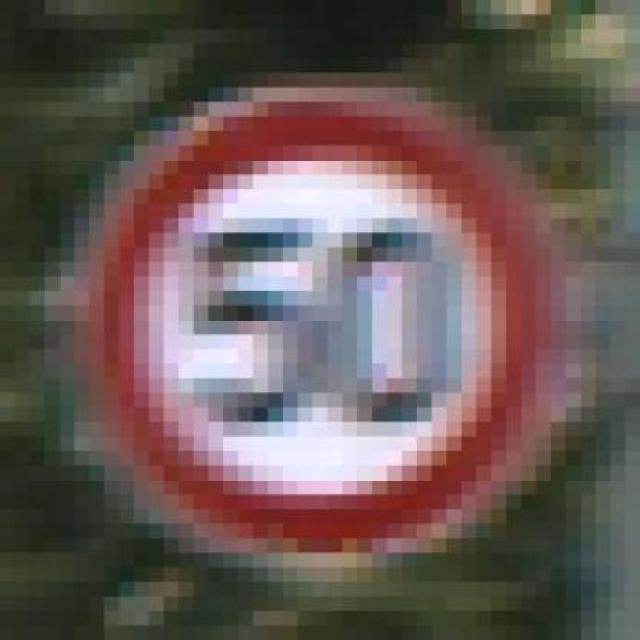Speed limit 50: (92, 84, 559, 555)
